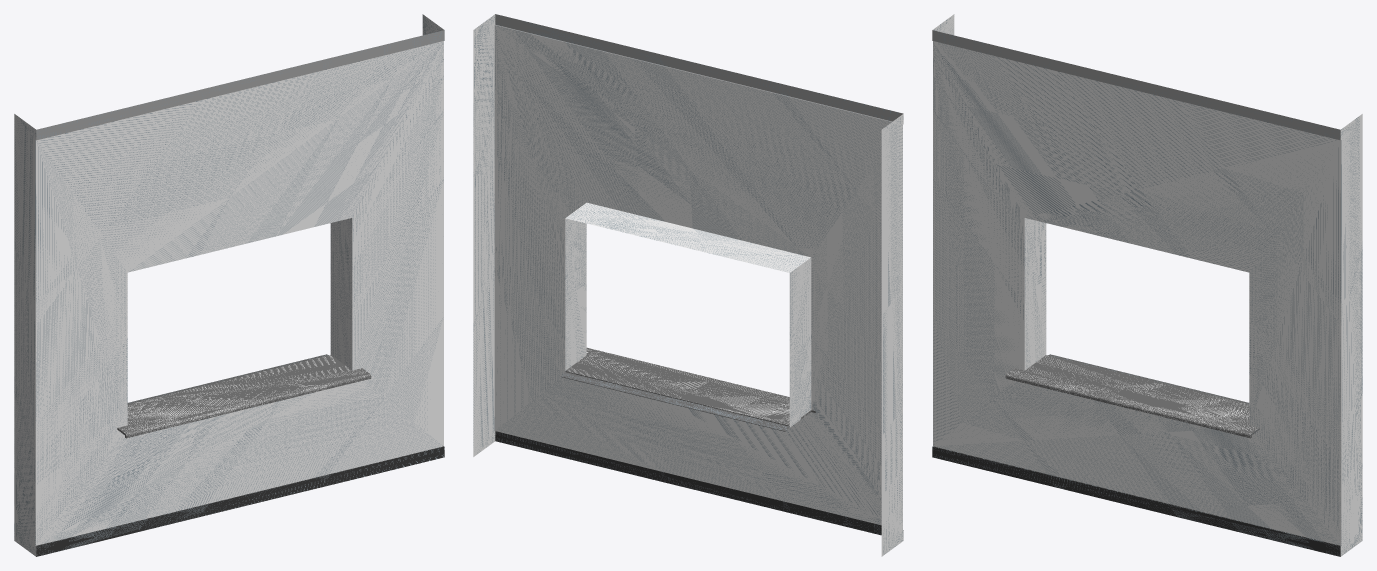
File: WindowBlock_os_plinth_[400x400]_220x143x[100].dae
The picture shows the model from 3 angles, left to right: view 1: azimuth 30°, elevation 25°; view 2: azimuth 150°, elevation 25°; view 3: azimuth 330°, elevation 25°; orthographic projection.
Parts seen in each view (by area): view 1: group_2 (×4), group_1; view 2: group_2 (×4), group_1 (×2); view 3: group_2 (×4), group_1.
Boxes of the visible parts, x1,y1,x2,y2 form: group_2 (×4): [14, 14, 444, 556]; group_1: [117, 355, 371, 438]; group_2 (×4): [473, 14, 903, 556]; group_1 (×2): [561, 347, 815, 431]; group_2 (×4): [932, 14, 1362, 556]; group_1: [1005, 355, 1258, 438].
Size of the model in its own units: 157 by 23.03 by 157.
